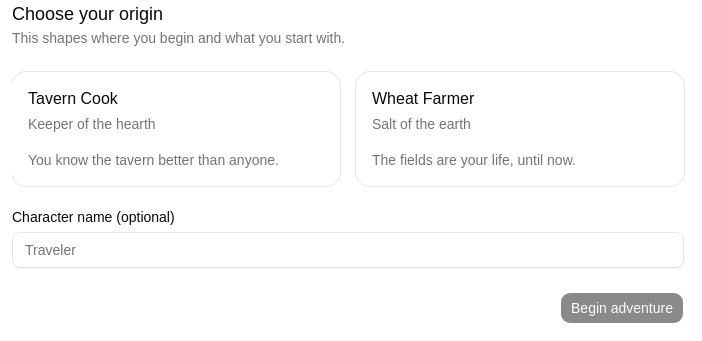
Test: OriginSelect › disables the submit button until an origin is selected
The image size is (702, 341).
expect the text "Tavern Cook" is shown: met, box [28,90,118,107]
expect the button "Begin adventure" is disabled: met, box [560,292,684,324]
Click the radio button labelled "Tavern Cook" at coordinates (176, 129), box [12,72,340,186]
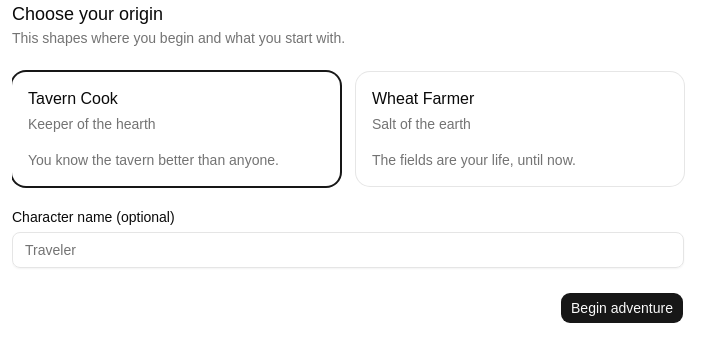
expect the button "Begin adventure" is enabled: met, box [560,292,684,324]
